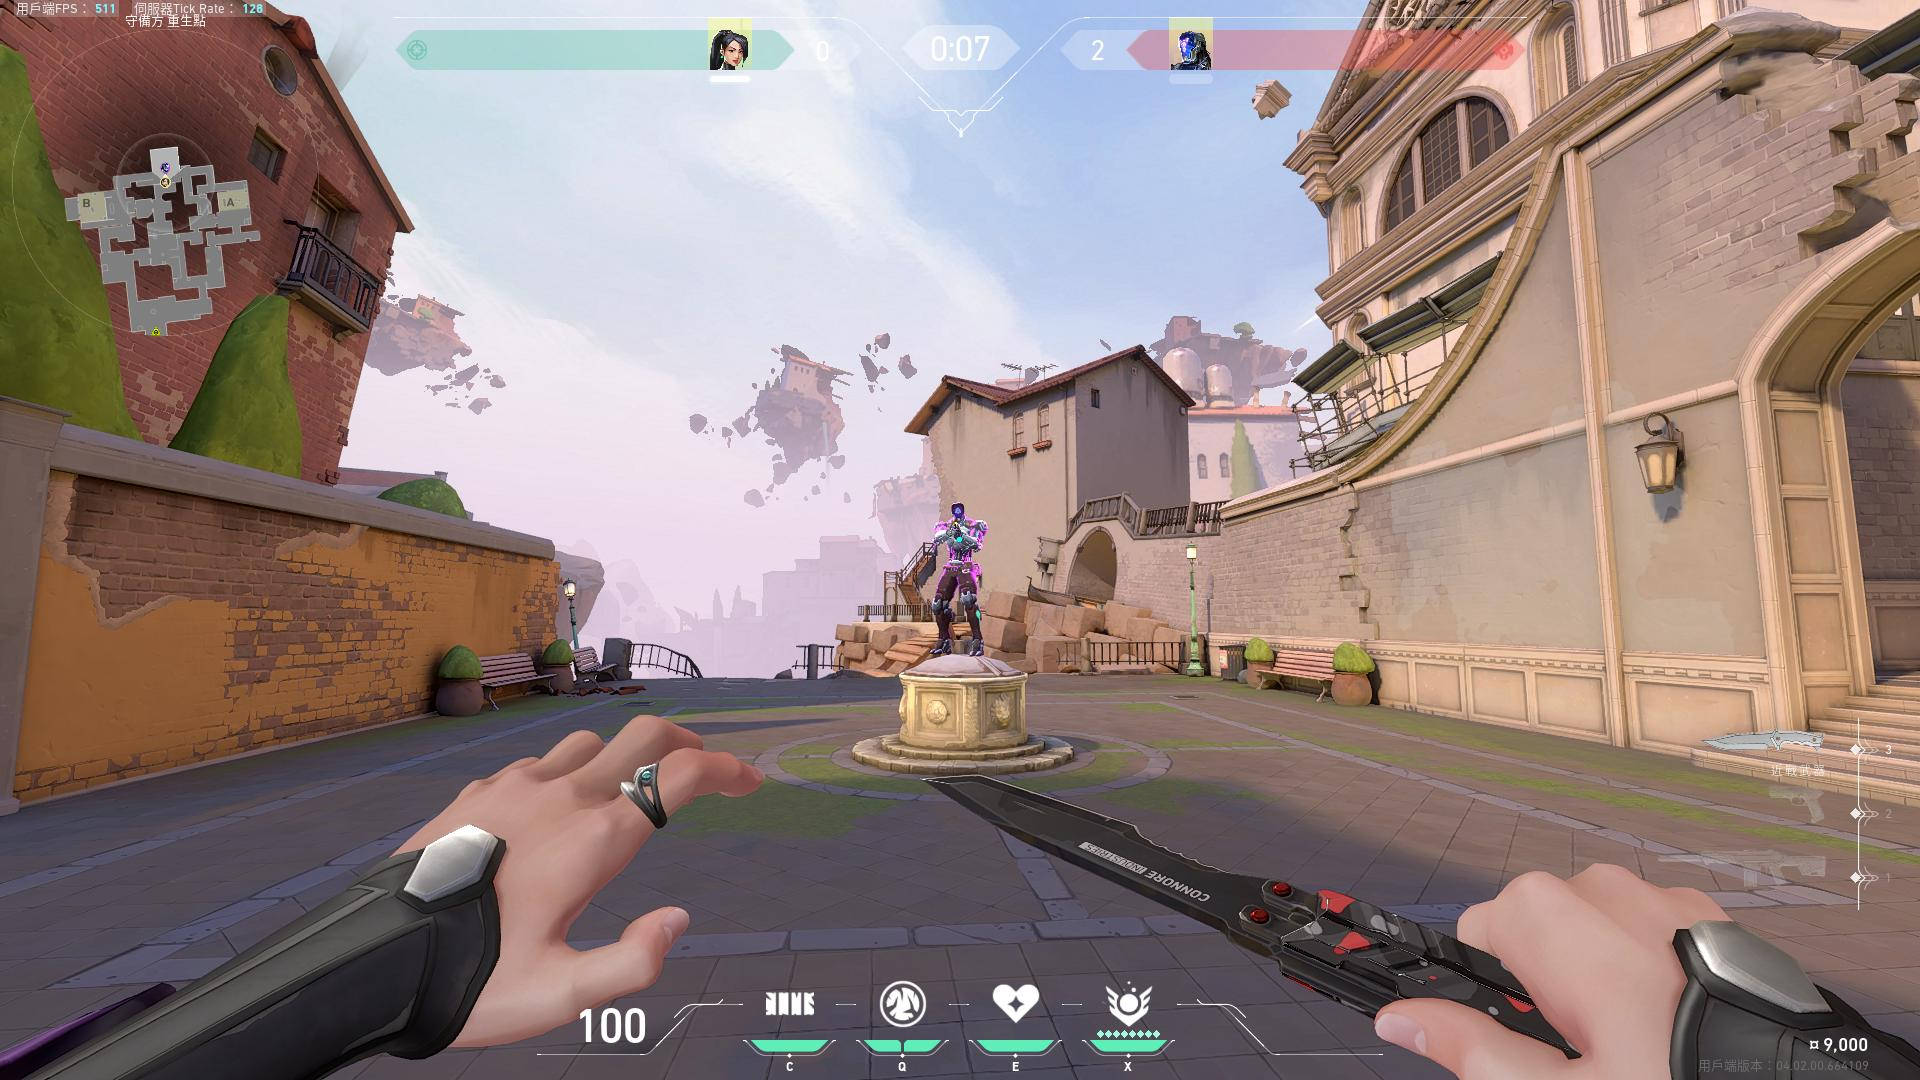enemyBody: (947, 534, 973, 578)
enemyHead: (949, 504, 967, 525)
